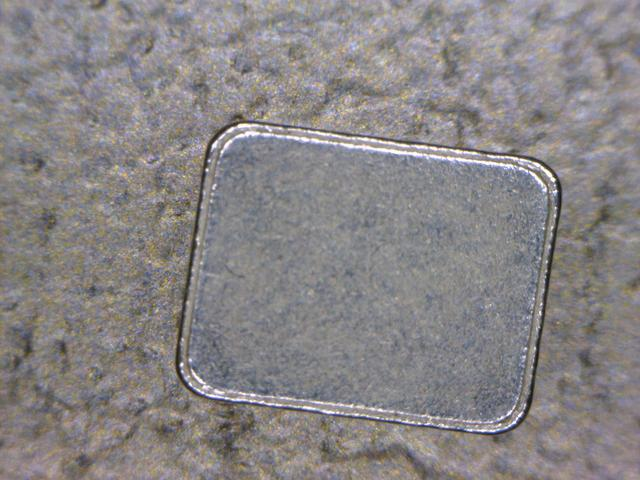nok: (172, 120, 549, 428)
